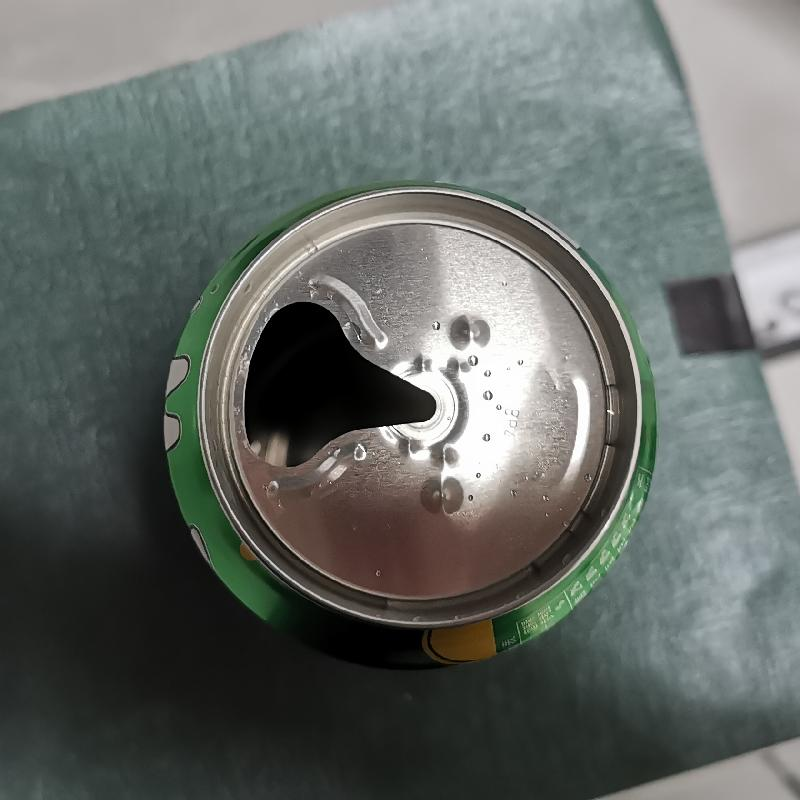cans: (163, 179, 664, 672)
